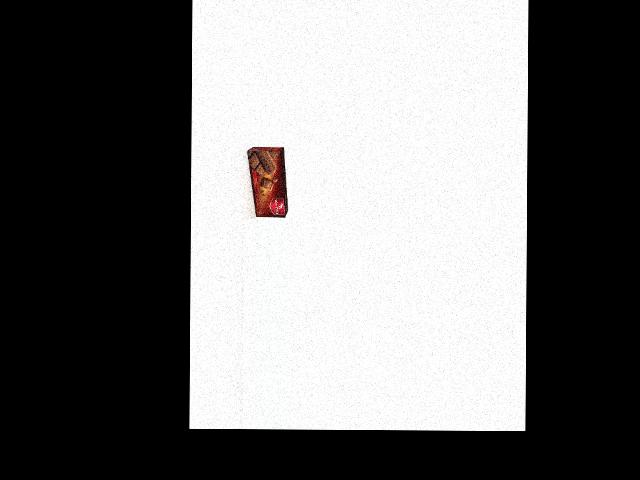chocolate: (245, 147, 289, 218)
